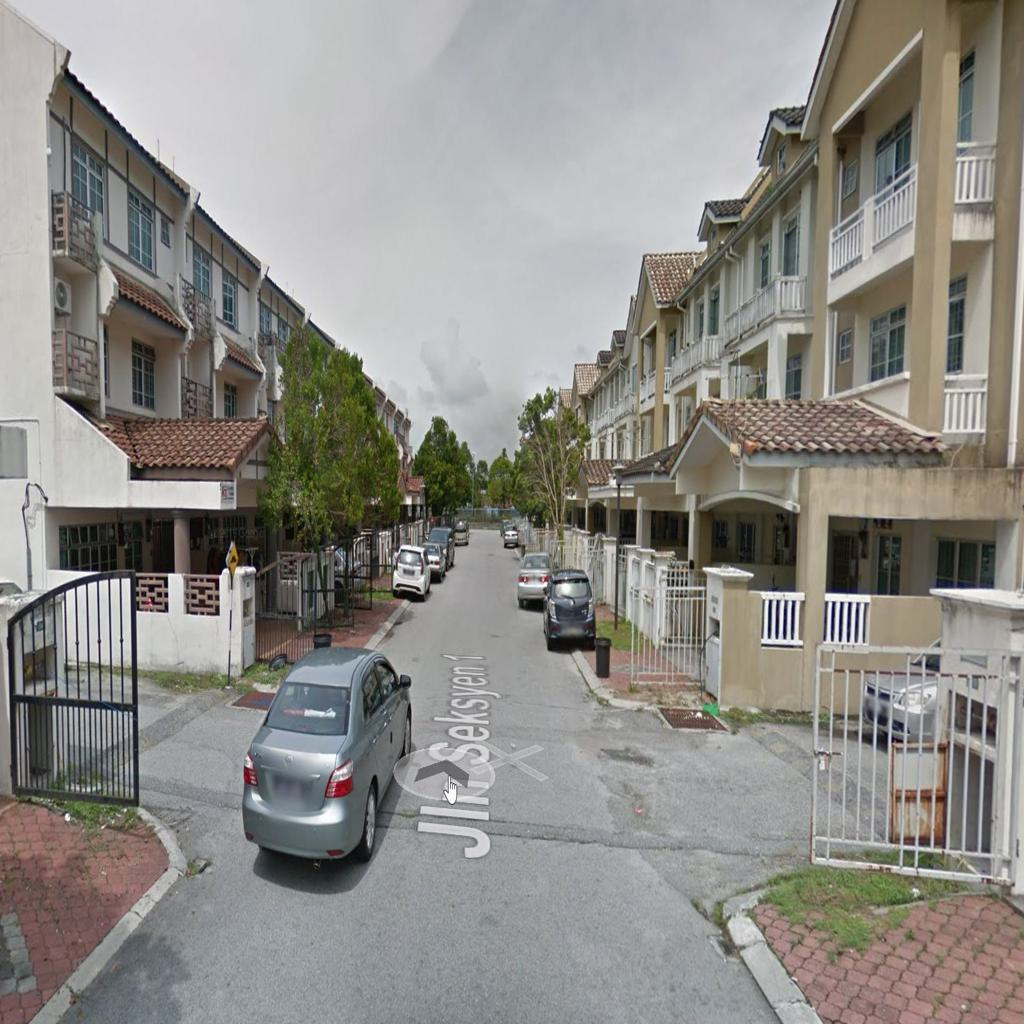Junction: (603, 668, 934, 934), (62, 627, 324, 877)
